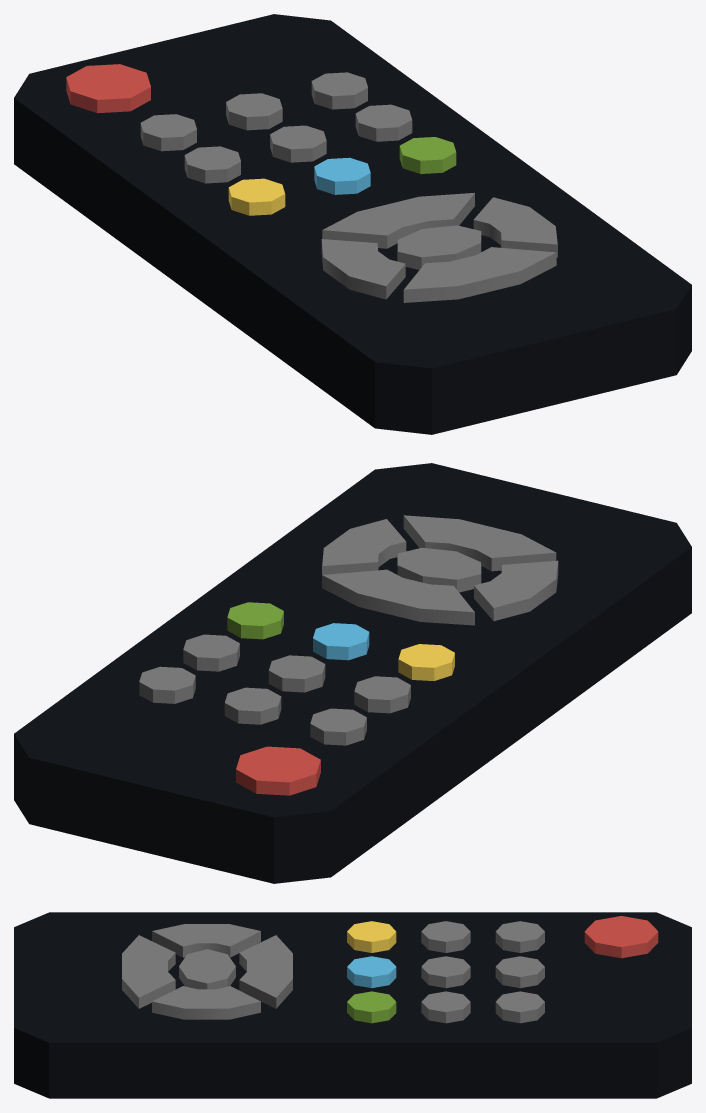
File: remoteControl.fbx
The picture shows the model from 3 angles, top to bottom: view 1: azimuth 30°, elevation 25°; view 2: azimuth 150°, elevation 25°; view 3: azimuth 270°, elevation 25°; orthographic projection. The views are drawn at different scales.
Parts seen in each view (by area): view 1: remoteControl; view 2: remoteControl; view 3: remoteControl.
Part boxes in pixels (<box>): remoteControl: <box>14,14,691,434</box>; remoteControl: <box>14,463,691,883</box>; remoteControl: <box>14,912,691,1098</box>.
Bounding box in the file's own units: 50 × 12 × 110.
1 material, 1 textured.
